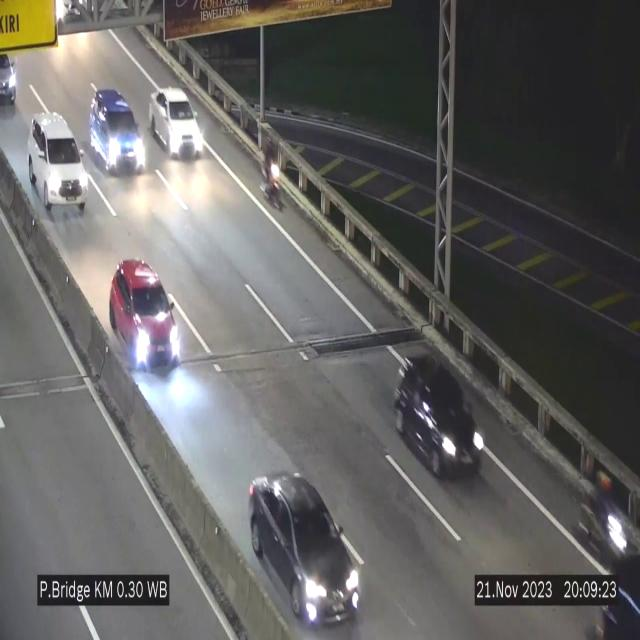Car: (248, 474, 360, 626), (396, 351, 482, 496), (107, 253, 185, 378), (25, 110, 83, 212), (90, 89, 145, 171), (148, 87, 204, 157), (0, 50, 26, 114)
Motorcycle: (578, 464, 628, 561), (259, 138, 287, 210)
